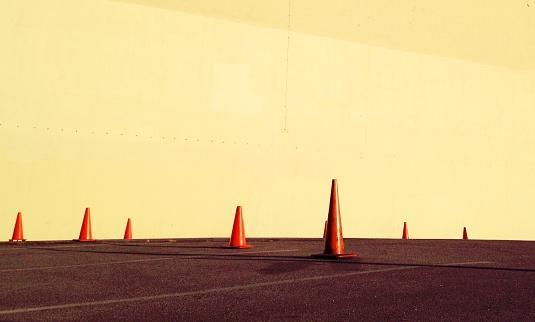Cone: (321, 178, 360, 260), (227, 206, 252, 249), (75, 207, 99, 244), (9, 212, 26, 242), (123, 218, 132, 239), (403, 220, 409, 240), (462, 227, 470, 241)
